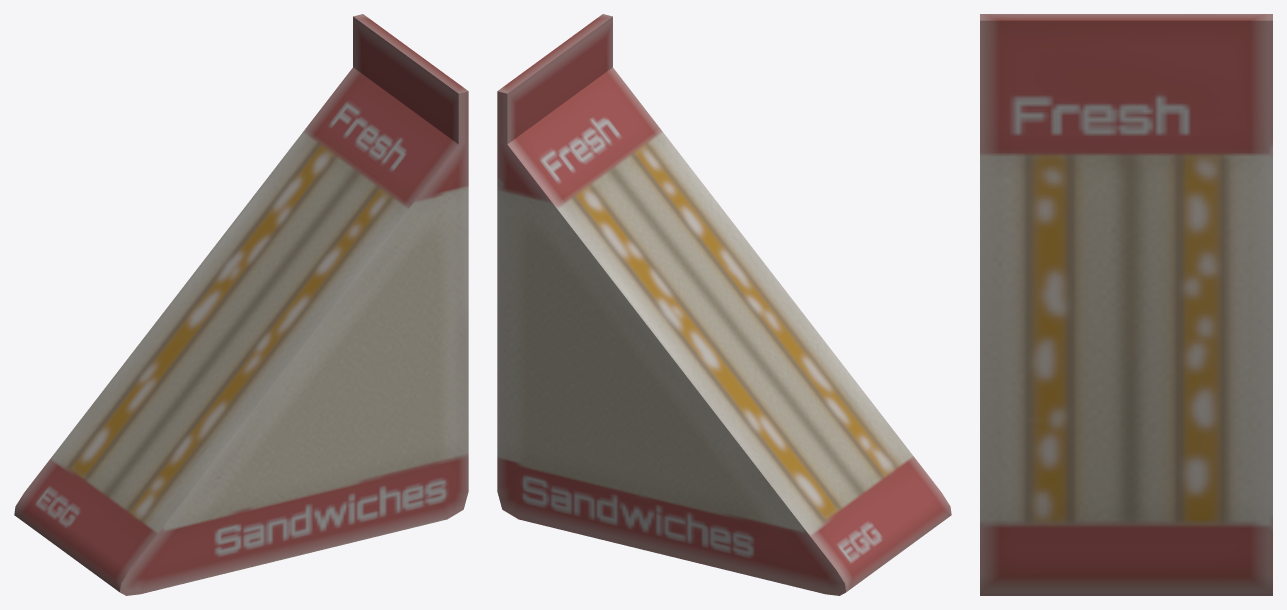
The model's file is hypercasual_prop012.FBX.
3 renders of one model, left to right at view 1: azimuth 30°, elevation 25°; view 2: azimuth 150°, elevation 25°; view 3: azimuth 270°, elevation 25°, orthographic. The views are drawn at different scales.
Visible parts, largest first — view 1: hypercasual_prop012; view 2: hypercasual_prop012; view 3: hypercasual_prop012.
Part boxes in pixels (box(x1,y1,x2,y2)): hypercasual_prop012: box(14, 14, 468, 595); hypercasual_prop012: box(497, 14, 951, 595); hypercasual_prop012: box(980, 14, 1272, 595).
Size of the model in its own units: 0.9481 by 1.1 by 0.4968.
Materials: 1 (1 with a texture image).
